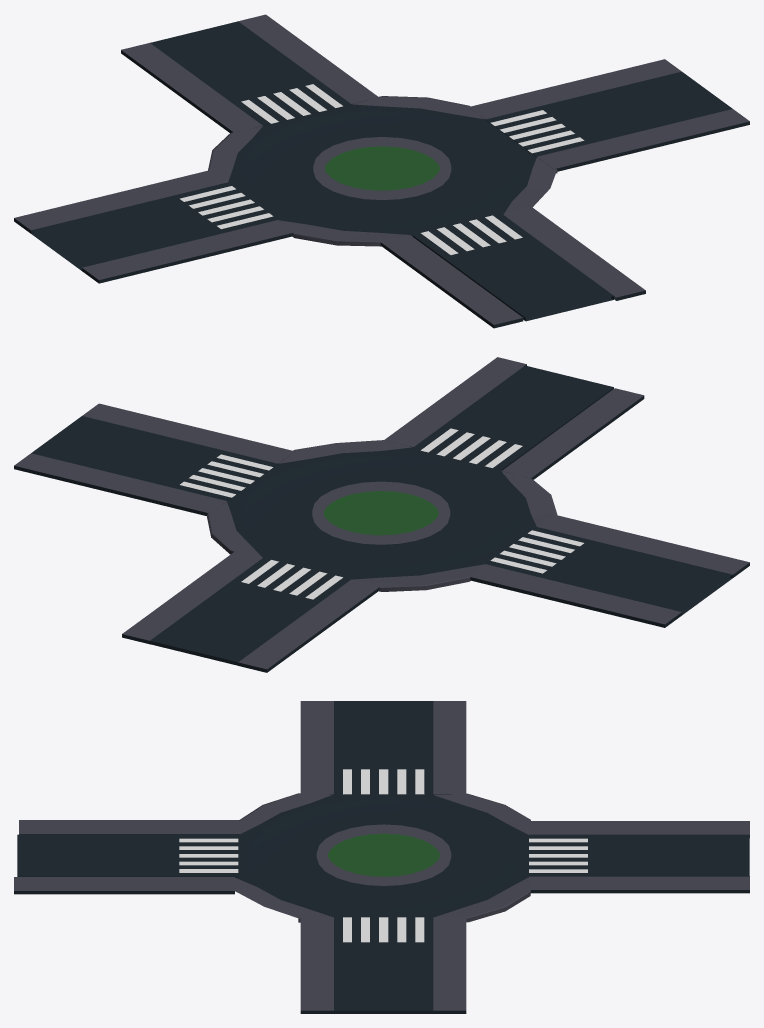
The model's file is rondo.fbx.
The picture shows the model from 3 angles, top to bottom: view 1: azimuth 30°, elevation 25°; view 2: azimuth 150°, elevation 25°; view 3: azimuth 270°, elevation 25°; orthographic projection. The views are drawn at different scales.
Parts seen in each view (by area): view 1: Cube.022, rondo, Cube.026, Cube.008, Cube.007, Cube.025, Cube.023, Cube.019, Cube.021, Cube.011; view 2: Cube.022, rondo, Cube.025, Cube.008, Cube.026, Cube.007, Cube.023, Cube.021, Cube.019, Cube.011; view 3: Cube.022, rondo, Cube.007, Cube.026, Cube.025, Cube.008, Cube.011, Cube.021, Cube.023, Cube.019.
Boxes of the visible parts, <box> form: Cube.022: <box>14,14,749,328</box>; rondo: <box>228,105,536,236</box>; Cube.026: <box>442,235,613,321</box>; Cube.008: <box>31,195,225,270</box>; Cube.007: <box>523,71,732,149</box>; Cube.025: <box>150,21,351,106</box>; Cube.023: <box>412,213,530,258</box>; Cube.019: <box>233,82,350,125</box>; Cube.021: <box>485,106,588,156</box>; Cube.011: <box>175,182,277,232</box>; Cube.022: <box>14,357,749,672</box>; rondo: <box>227,447,536,579</box>; Cube.025: <box>150,580,320,665</box>; Cube.008: <box>538,539,732,615</box>; Cube.026: <box>443,365,613,449</box>; Cube.007: <box>31,416,268,488</box>; Cube.023: <box>412,426,530,470</box>; Cube.021: <box>175,451,277,501</box>; Cube.019: <box>233,558,350,601</box>; Cube.011: <box>486,527,588,576</box>; Cube.022: <box>14,701,749,1013</box>; rondo: <box>235,794,528,917</box>; Cube.007: <box>334,942,433,1013</box>; Cube.026: <box>17,834,179,876</box>; Cube.025: <box>588,834,749,876</box>; Cube.008: <box>334,701,433,769</box>; Cube.011: <box>334,769,433,794</box>; Cube.021: <box>334,917,433,942</box>; Cube.023: <box>179,834,238,877</box>; Cube.019: <box>529,834,587,876</box>.
Bounding box in the file's own units: 6631 × 81.18 × 6664.
